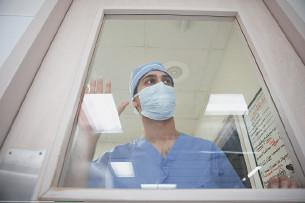OK: (132, 73, 179, 120)
